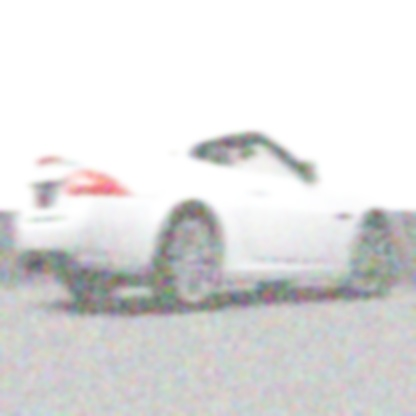Vehicle: (17, 133, 400, 316)
